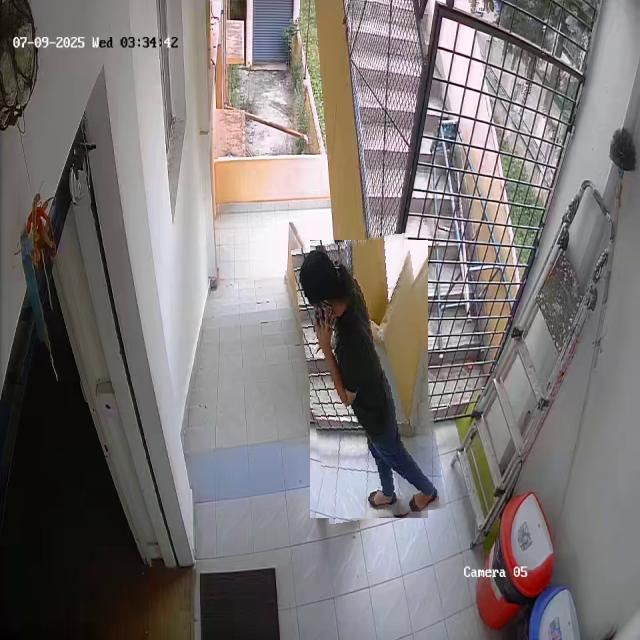person: (301, 237, 437, 521)
